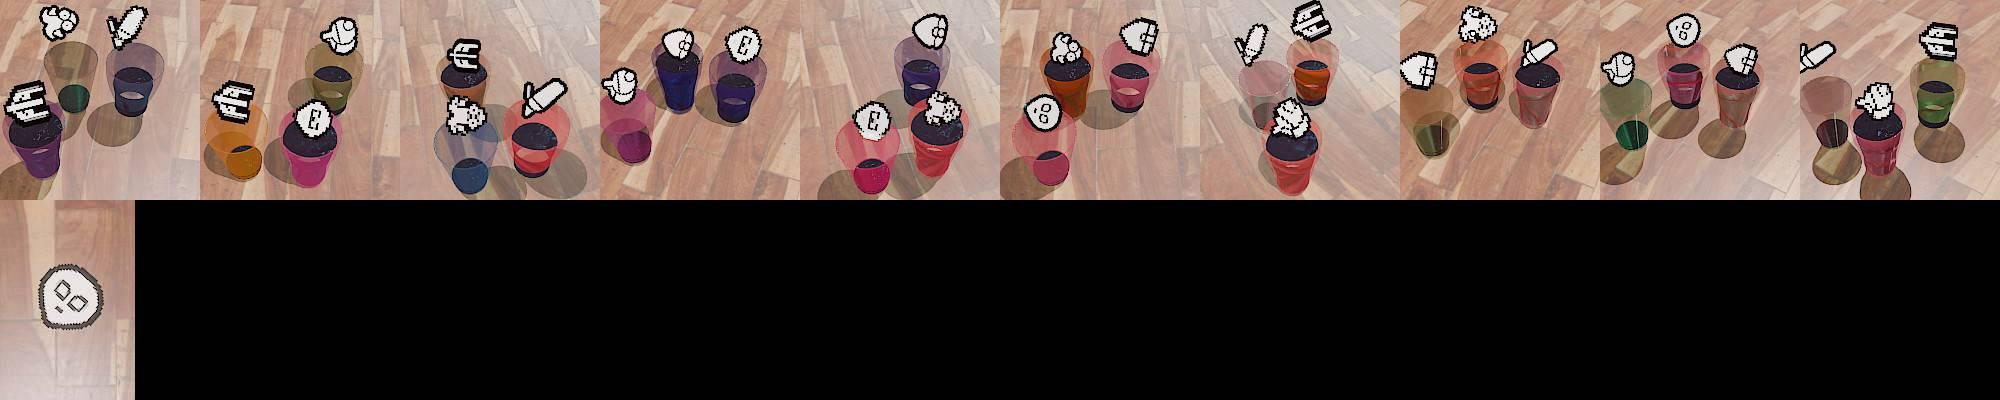icon: (37, 262, 106, 330), (4, 80, 51, 125), (522, 75, 568, 118), (1269, 94, 1312, 139), (210, 79, 255, 122), (106, 5, 149, 50), (1290, 0, 1332, 45), (444, 94, 487, 135), (852, 99, 893, 140), (1119, 15, 1159, 56), (1046, 31, 1087, 71), (293, 98, 334, 139), (1023, 93, 1064, 132), (1918, 22, 1960, 60), (921, 89, 962, 127), (724, 24, 763, 64), (1458, 5, 1497, 43), (1236, 23, 1269, 68), (38, 5, 78, 42), (321, 17, 358, 56), (1399, 51, 1436, 90), (1856, 82, 1897, 117), (601, 66, 638, 104), (912, 13, 949, 51), (659, 27, 698, 62), (1798, 39, 1837, 75), (1666, 13, 1702, 50), (1602, 50, 1636, 87), (1520, 36, 1559, 69), (1722, 43, 1760, 76), (446, 38, 482, 70)
